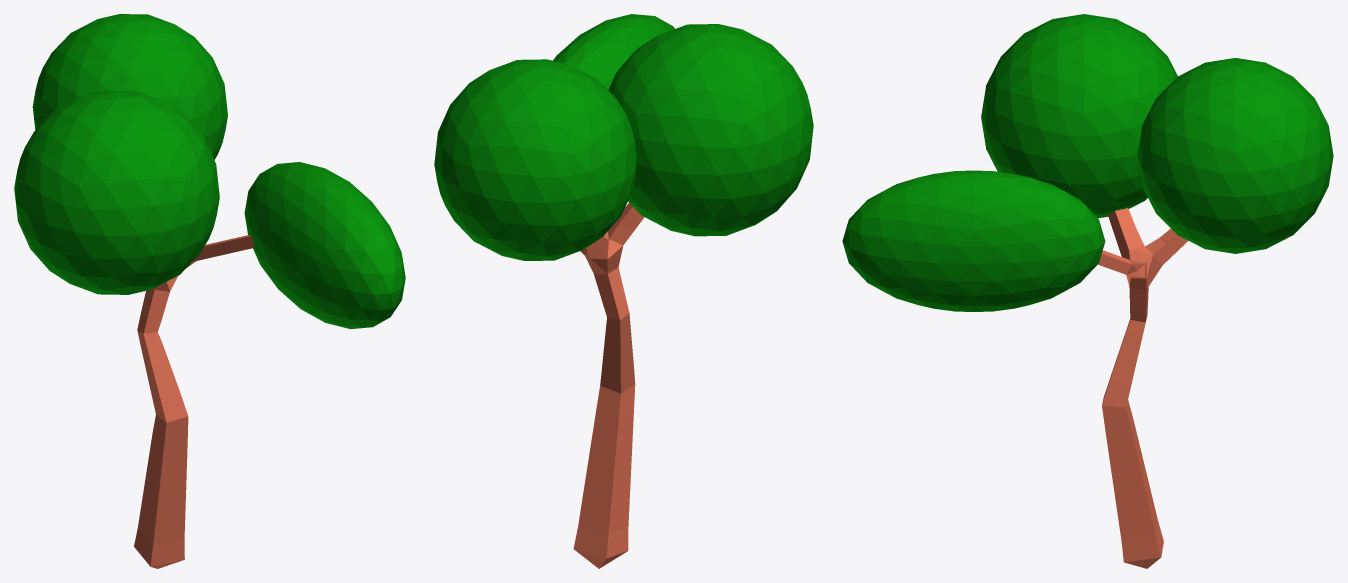
3 views of the same model, side by side, from view 1: azimuth 30°, elevation 25°; view 2: azimuth 150°, elevation 25°; view 3: azimuth 270°, elevation 25° (orthographic). The views are drawn at different scales.
Parts seen in each view (by area): view 1: Icosphere.002, Icosphere.001, Icosphere, Cube; view 2: Icosphere.002, Icosphere, Cube, Icosphere.001; view 3: Icosphere, Icosphere.001, Icosphere.002, Cube.
Part boxes in pixels (x1=…): Icosphere.002: x1=14, y1=90, x2=219, y2=294; Icosphere.001: x1=244, y1=162, x2=405, y2=329; Icosphere: x1=32, y1=14, x2=227, y2=159; Cube: x1=134, y1=235, x2=254, y2=568; Icosphere.002: x1=608, y1=24, x2=813, y2=236; Icosphere: x1=434, y1=59, x2=636, y2=260; Cube: x1=573, y1=203, x2=644, y2=568; Icosphere.001: x1=553, y1=14, x2=674, y2=89; Icosphere: x1=1137, y1=58, x2=1333, y2=253; Icosphere.001: x1=842, y1=170, x2=1105, y2=311; Icosphere.002: x1=981, y1=14, x2=1177, y2=218; Cube: x1=1098, y1=208, x2=1187, y2=568.
Size of the model in its own units: 436 by 736 by 643.
